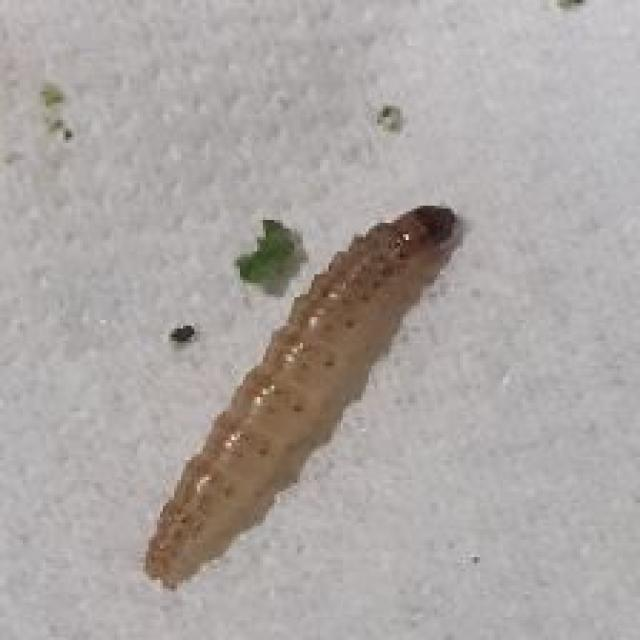white mucus: (124, 198, 468, 597)
